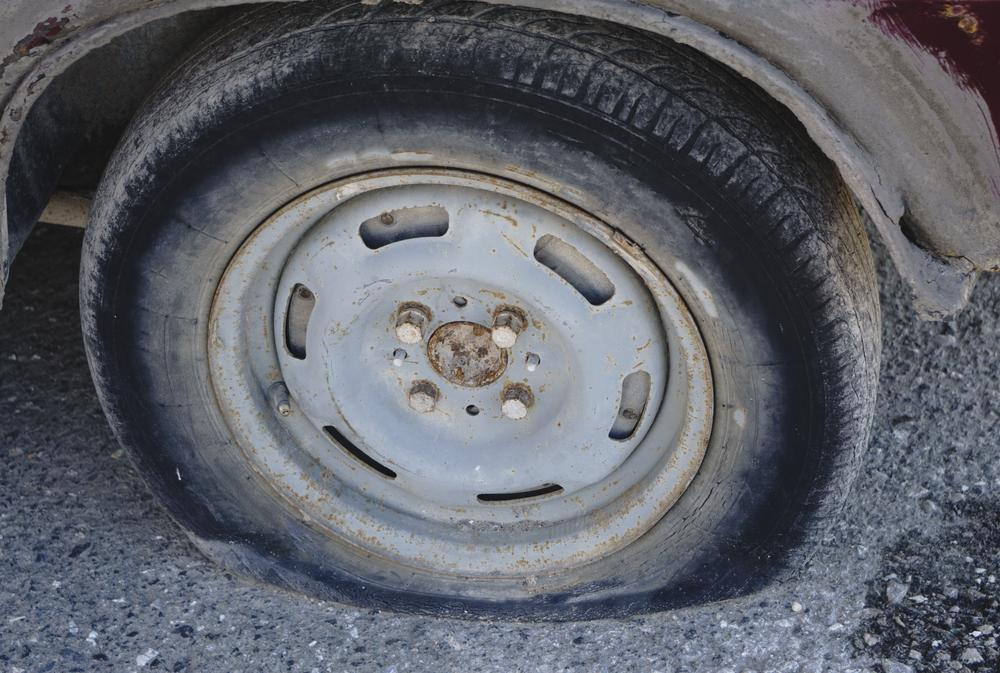tire flat: (83, 0, 880, 629)
